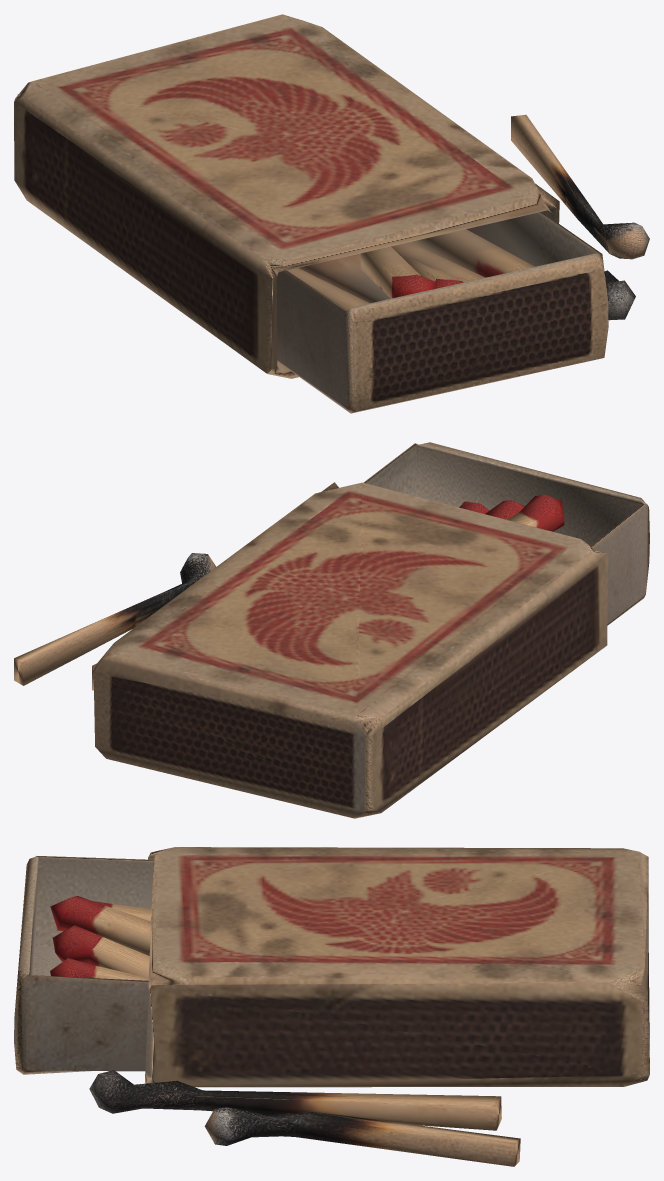
The model's file is Meshy_AI_Phoenix_Matchbox_20261028_texture.fbx.
3 renders of one model, top to bottom at view 1: azimuth 30°, elevation 25°; view 2: azimuth 150°, elevation 25°; view 3: azimuth 270°, elevation 25°, orthographic. The views are drawn at different scales.
Visible parts, largest first — view 1: Mesh_0; view 2: Mesh_0; view 3: Mesh_0.
Boxes of the visible parts, x1,y1,x2,y2 form: Mesh_0: (14, 14, 649, 413); Mesh_0: (14, 442, 649, 818); Mesh_0: (14, 847, 649, 1166).
Size of the model in its own units: 75.34 by 19.63 by 95.61.
Materials: 1 (1 with a texture image).
